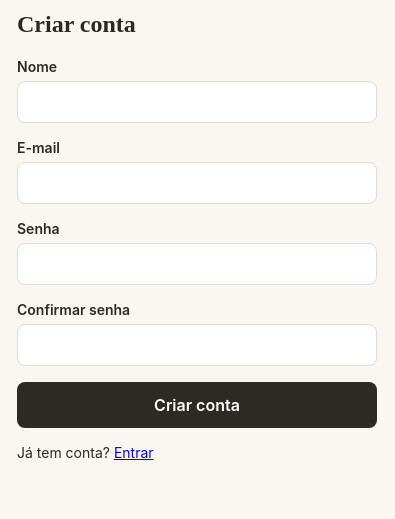
Test: RegisterPage › mostra erro de validação para senha curta e confirmação divergente
The image size is (395, 519).
Type "Ana Souza" into the field labelled "Nome".
click(197, 102); type("Ana Souza")  # box x1=17 y1=81 x2=377 y2=123
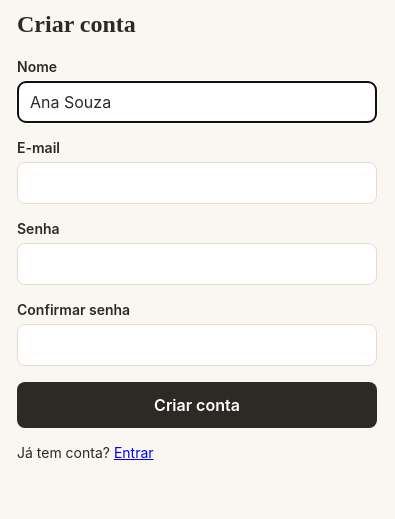
Type "ana@example.com" into the field labelled "E-mail".
click(197, 183); type("ana@example.com")  # box x1=17 y1=162 x2=377 y2=204
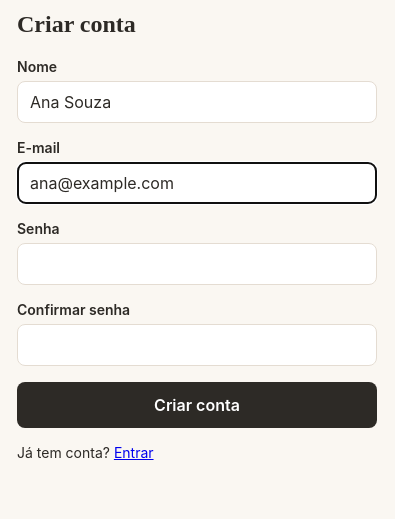
Type "123" into the password field labelled "Senha".
click(197, 264); type("123")  # box x1=17 y1=243 x2=377 y2=285
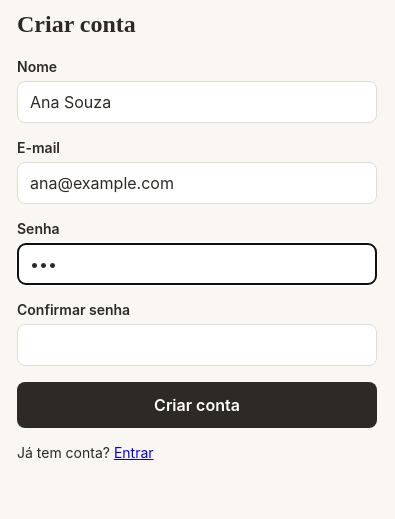
Type "456" into the password field labelled "Confirmar senha".
click(197, 345); type("456")  # box x1=17 y1=324 x2=377 y2=366
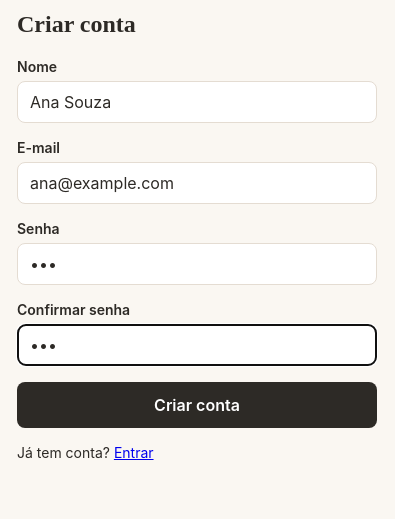
Click the button "Criar conta".
click(197, 405)  # box x1=17 y1=382 x2=377 y2=428
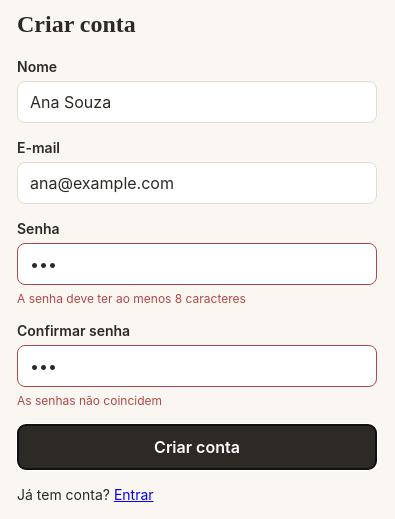
Now the text "A senha deve ter ao menos 8 caracteres" is shown, box x1=17 y1=291 x2=246 y2=306
Now the text "As senhas não coincidem" is shown, box x1=17 y1=393 x2=162 y2=408
